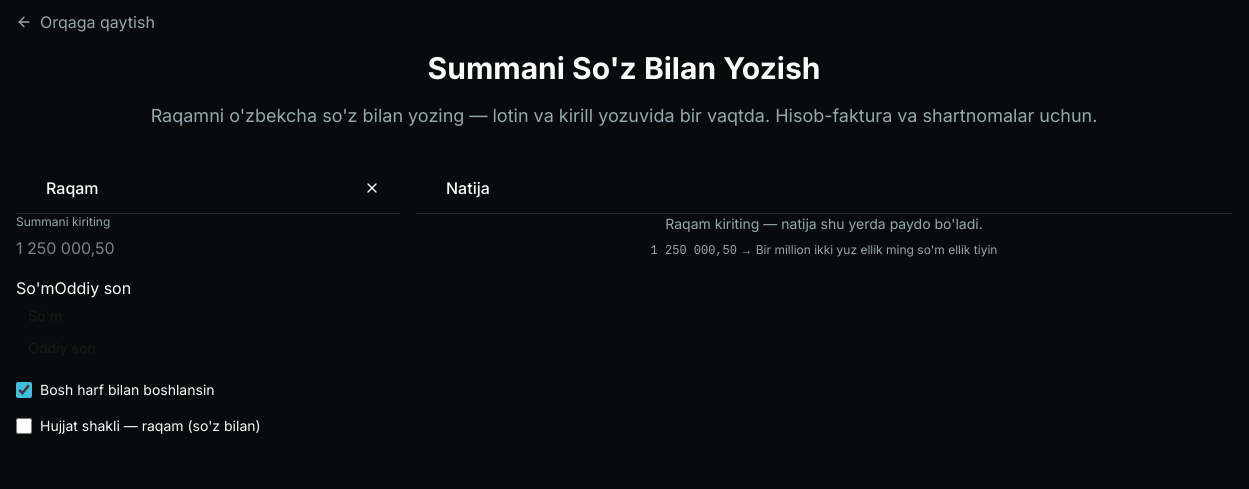
Test: number to words › refuses text instead of naming part of it
The image size is (1249, 489).
Type "12ab" into the field labelled "Summani kiriting" at (208, 248), box 16,236 -> 400,260
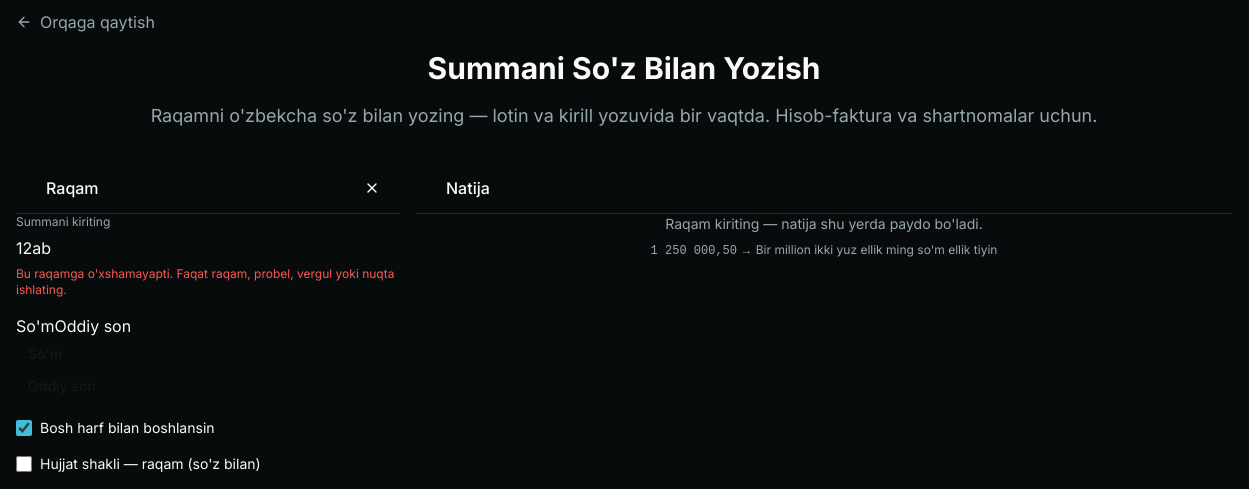
Now the message shows "raqamga o'xshamayapti", box 16,266 -> 394,297
